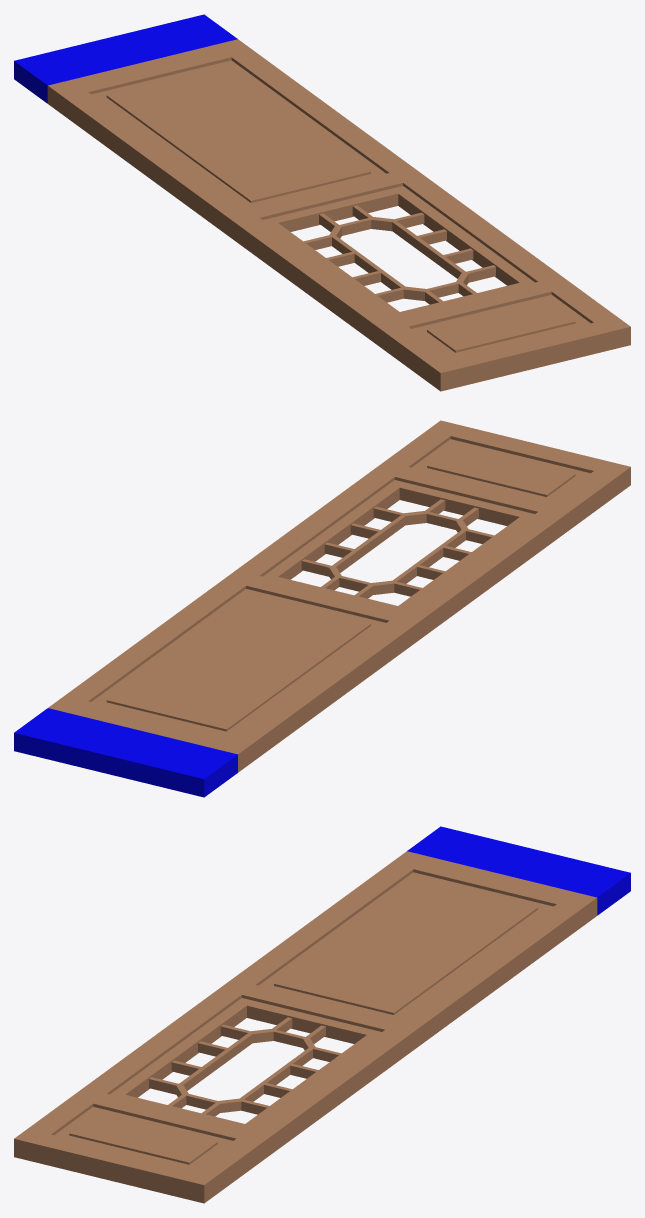
File: 02_door.obj
3 renders of one model, top to bottom at view 1: azimuth 30°, elevation 25°; view 2: azimuth 150°, elevation 25°; view 3: azimuth 330°, elevation 25°, orthographic.
Parts seen in each view (by area): view 1: 连接的实心几何图形, 拉伸; view 2: 连接的实心几何图形, 拉伸; view 3: 连接的实心几何图形, 拉伸.
Boxes of the visible parts, left/top/right/bottom form: 连接的实心几何图形: left=47, top=39, right=630, bottom=391; 拉伸: left=14, top=14, right=237, bottom=103; 连接的实心几何图形: left=48, top=420, right=630, bottom=772; 拉伸: left=14, top=708, right=237, bottom=797; 连接的实心几何图形: left=14, top=851, right=597, bottom=1203; 拉伸: left=407, top=826, right=630, bottom=915.
Bounding box in the file's own units: 0.65 × 0.06 × 2.53.
